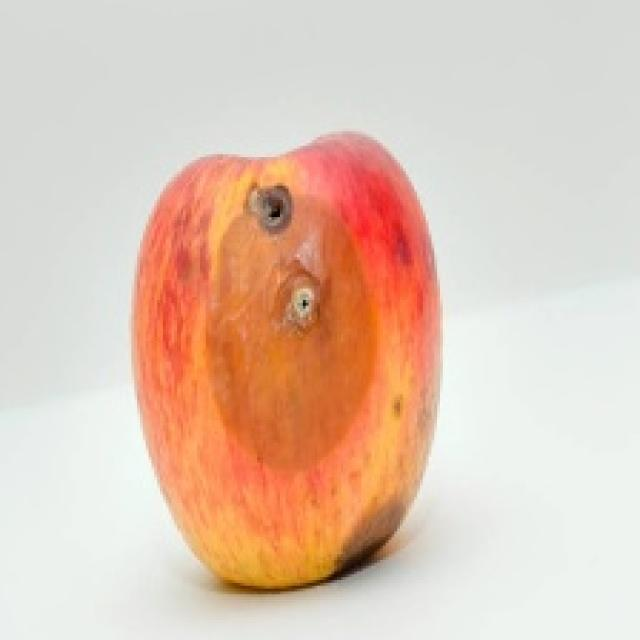rotten_apple: (138, 136, 435, 582)
